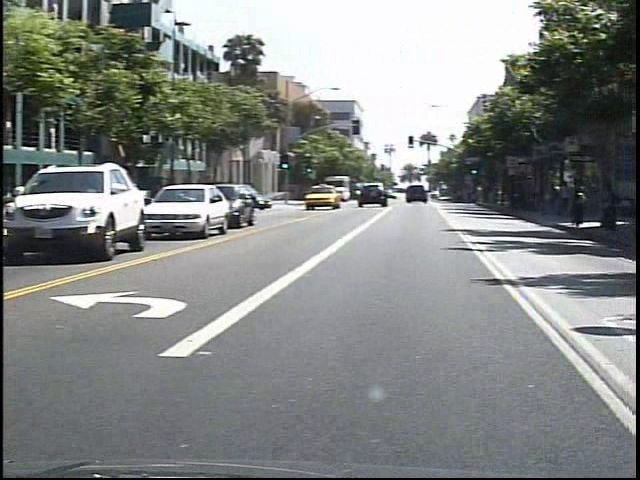person: (576, 166, 599, 230), (568, 178, 583, 217)
